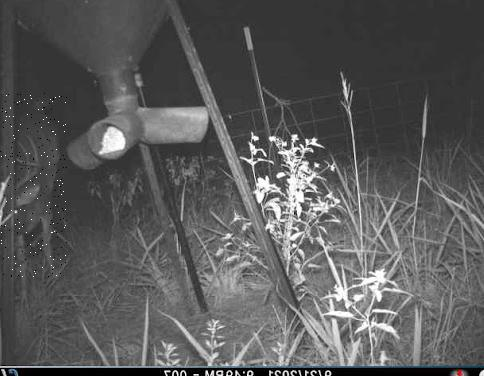Deer: (0, 93, 67, 277)
